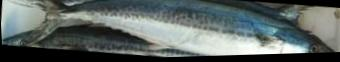fish: (25, 0, 337, 57)
